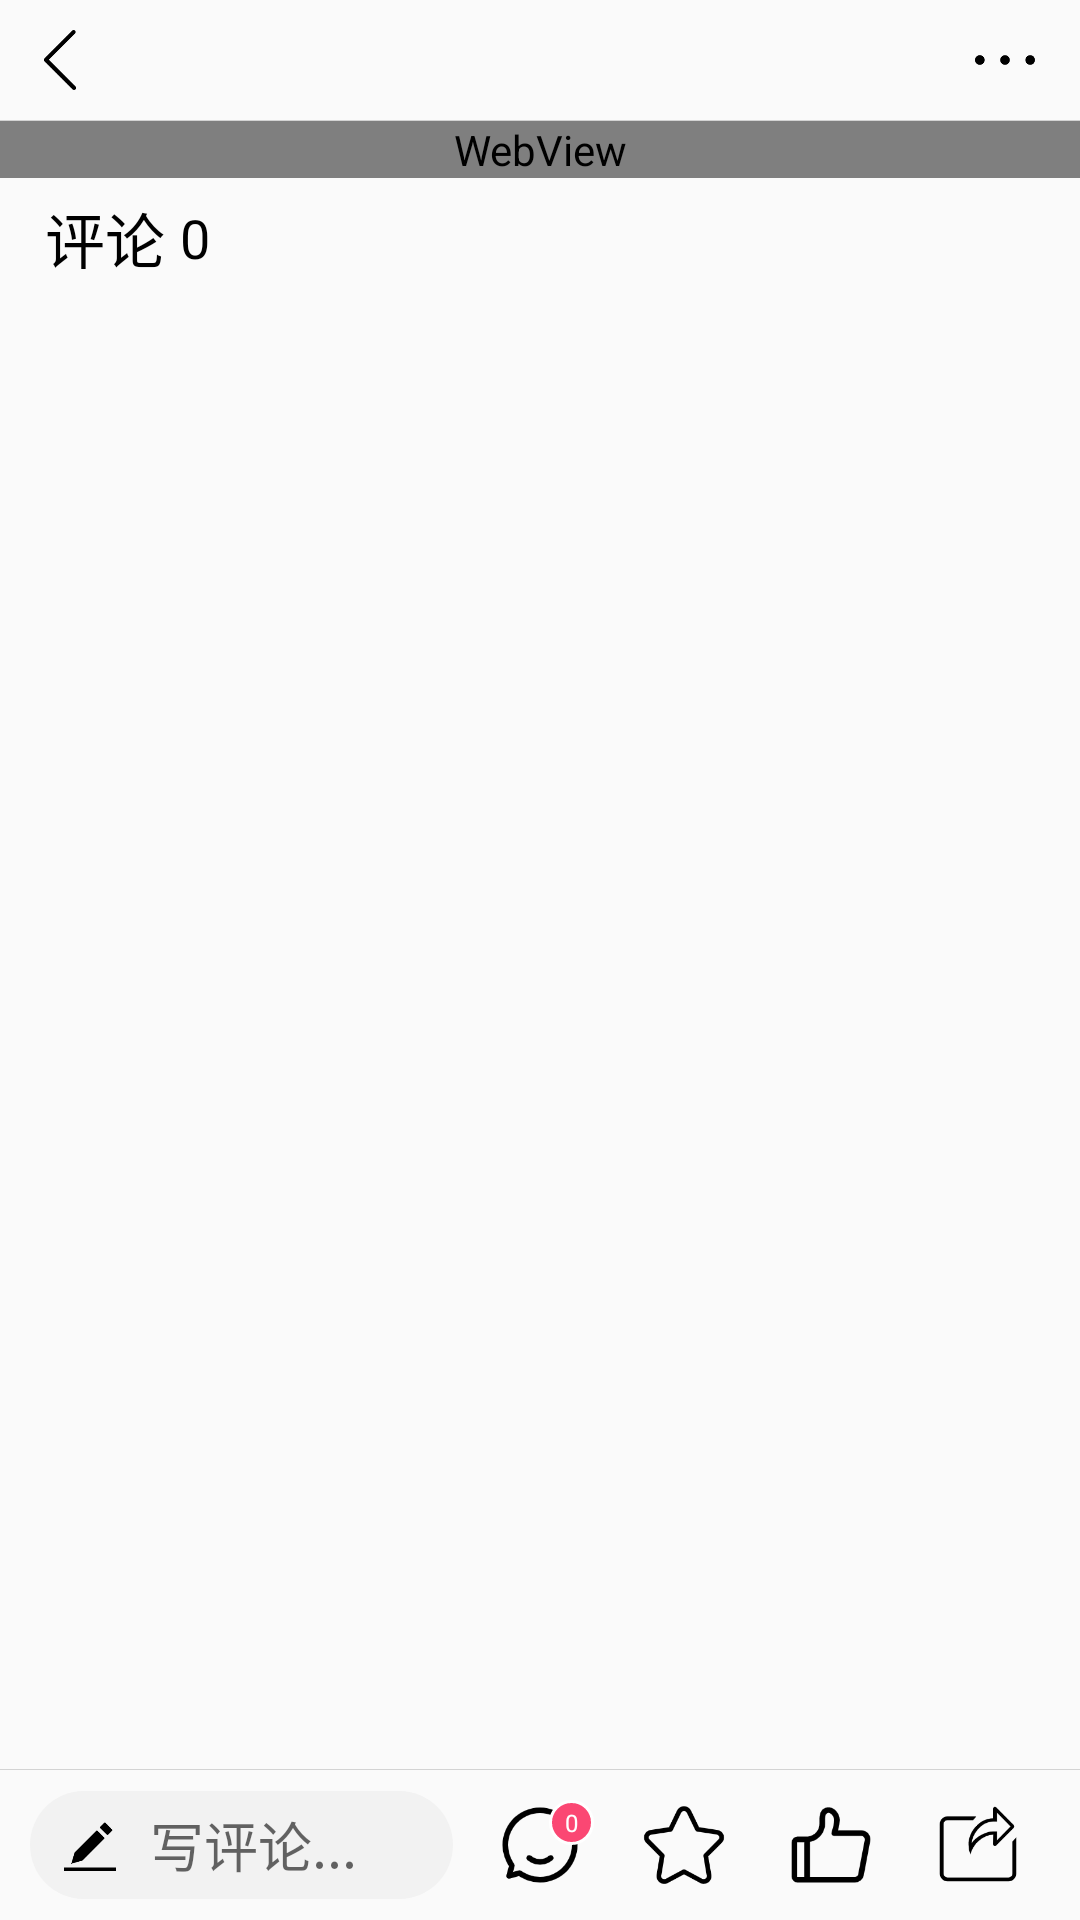

Icon bounding boxes for this 1080×1920 phone screenshot, format (x1, y1, x2, y2):
back: (44, 30, 76, 90)
collect: (644, 1806, 724, 1884)
comment: (502, 1807, 578, 1883)
edit: (64, 1822, 116, 1871)
like: (791, 1807, 871, 1883)
more: (975, 55, 1035, 65)
share: (939, 1806, 1017, 1882)
